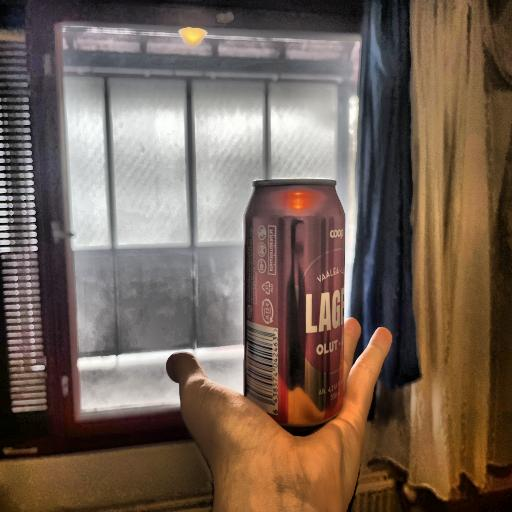coop_larger: (238, 178, 354, 430)
